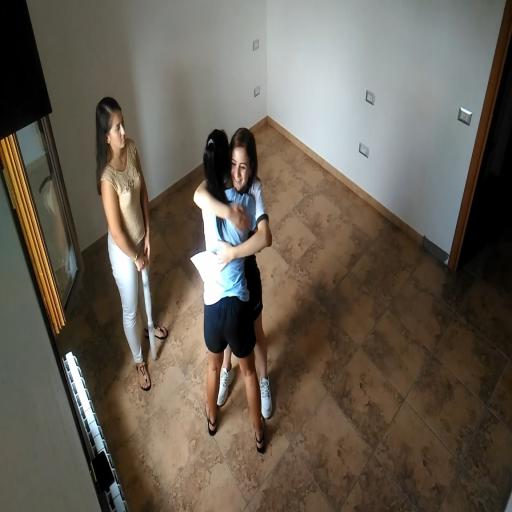nao-violencia: (172, 109, 292, 462)
